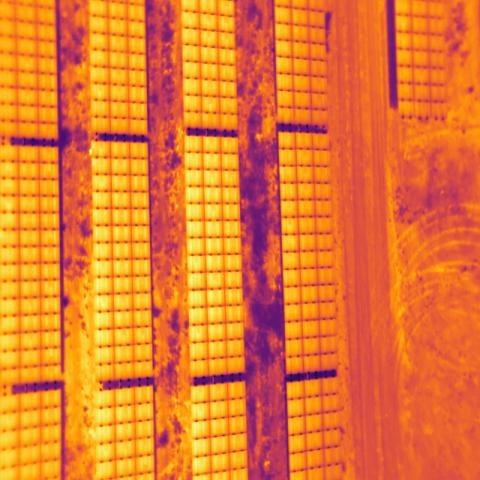fault: (89, 141, 111, 158)
